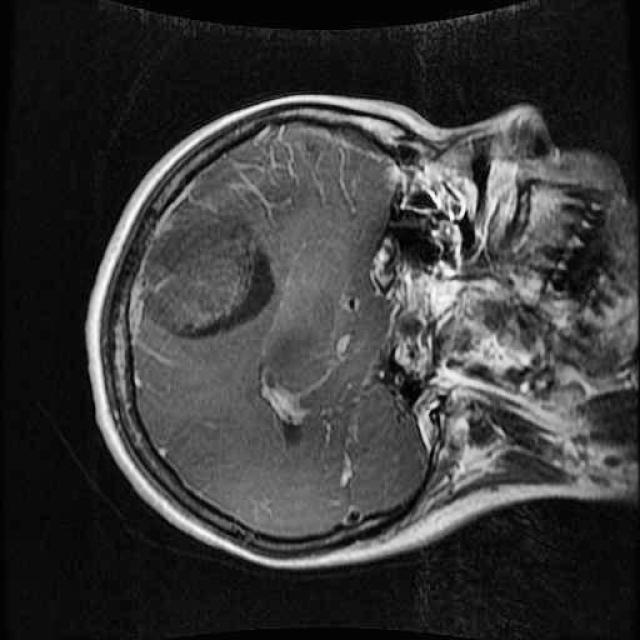Non-Tumor: (129, 196, 285, 351)
